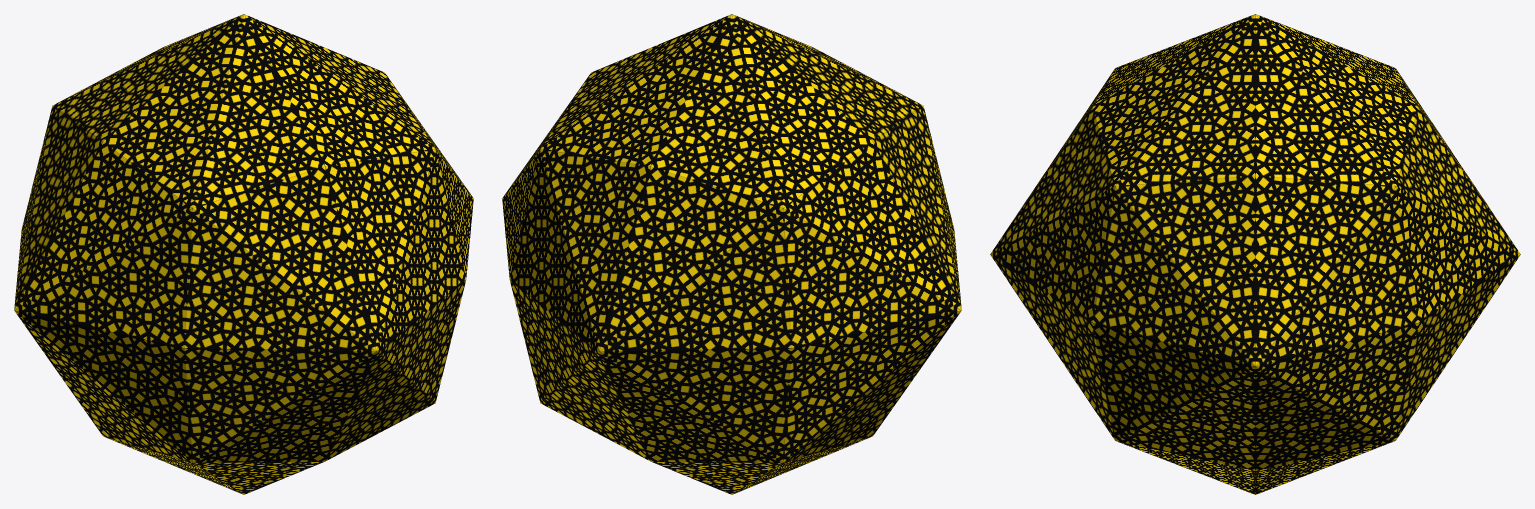
The model's file is disdyakis-dodecahedron.gltf.
3 views of the same model, side by side, from view 1: azimuth 30°, elevation 25°; view 2: azimuth 150°, elevation 25°; view 3: azimuth 270°, elevation 25° (orthographic).
Visible parts, largest first — view 1: Disdyakisdodecahedron; view 2: Disdyakisdodecahedron; view 3: Disdyakisdodecahedron.
Part boxes in pixels (x1=…): Disdyakisdodecahedron: x1=14, y1=14, x2=473, y2=494; Disdyakisdodecahedron: x1=502, y1=14, x2=961, y2=494; Disdyakisdodecahedron: x1=990, y1=14, x2=1520, y2=494.
Size of the model in its own units: 11.54 by 11.54 by 11.54.
1 material, 1 textured.
